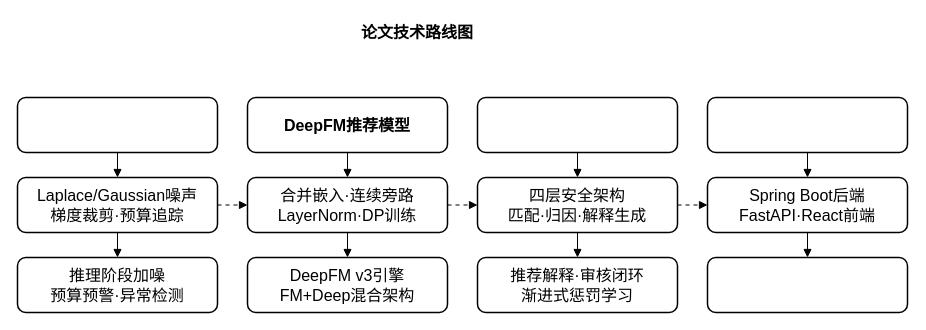
The diagram is 926 pixels wide and 330 high, and some of its shapes have lost their labels. Each missing label, with the centre of its shape:
"功能/性能/隐私测试 ε=0.1准确率~10%" goes at (x=807, y=284).
"安全可控与可解释" goes at (x=577, y=124).
"差分隐私保护机制" goes at (x=117, y=124).
"系统原型与验证" goes at (x=807, y=124).
